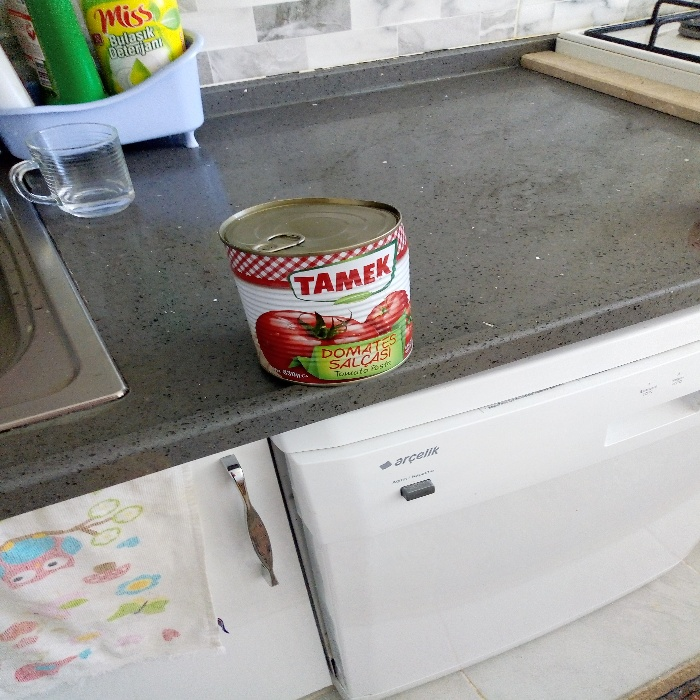salca: (218, 179, 433, 389)
